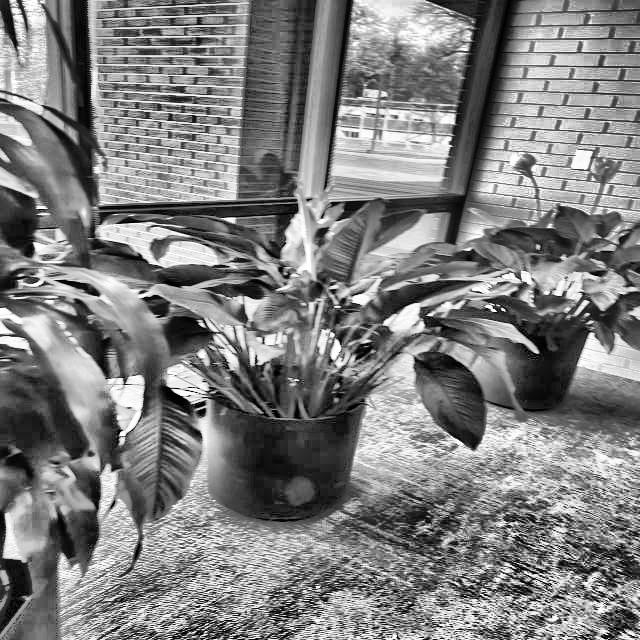plants: (0, 99, 176, 580), (200, 218, 444, 402), (436, 185, 640, 345)
